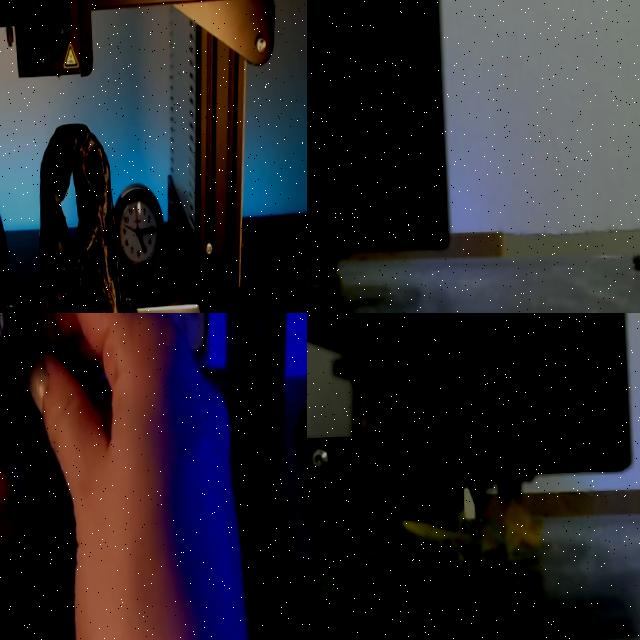spaghetti: (400, 490, 542, 563), (307, 271, 341, 306)
